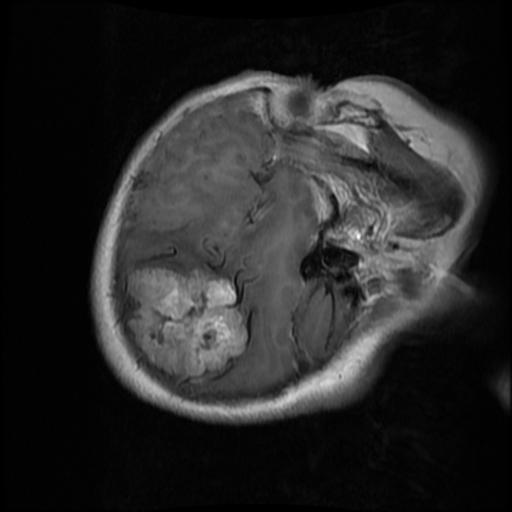meningioma: (127, 267, 248, 378)
